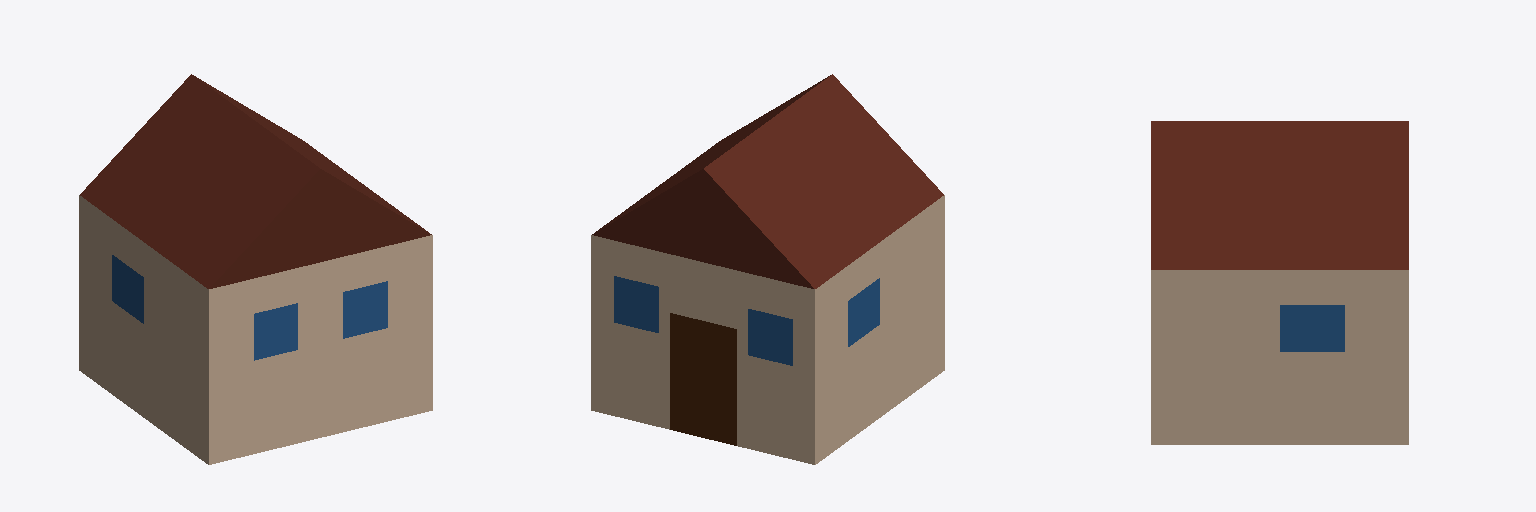
The model's file is suburban_house.obj.
The picture shows the model from 3 angles: view 1: azimuth 30°, elevation 25°; view 2: azimuth 150°, elevation 25°; view 3: azimuth 270°, elevation 25°; orthographic projection.
Parts seen in each view (by area): view 1: SuburbanHouse; view 2: SuburbanHouse; view 3: SuburbanHouse.
Boxes of the visible parts, x1,y1,x2,y2 form: SuburbanHouse: [79, 74, 432, 464]; SuburbanHouse: [591, 74, 944, 464]; SuburbanHouse: [1151, 121, 1408, 444].
Bounding box in the file's own units: 2 × 2.3 × 2.